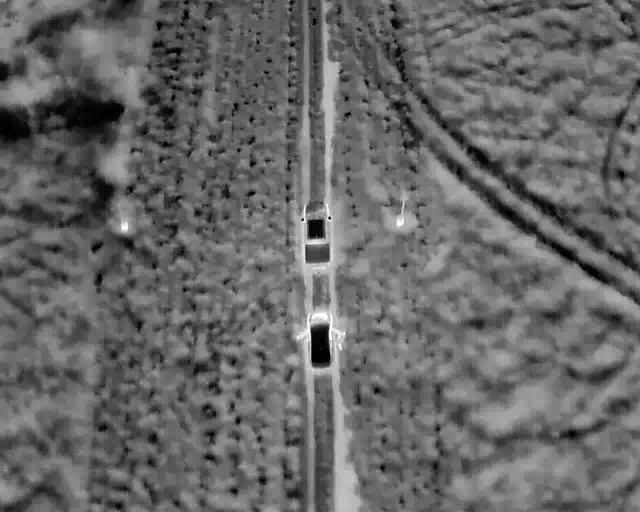car: (296, 309, 336, 369), (300, 199, 333, 267)
person: (333, 330, 345, 351)
